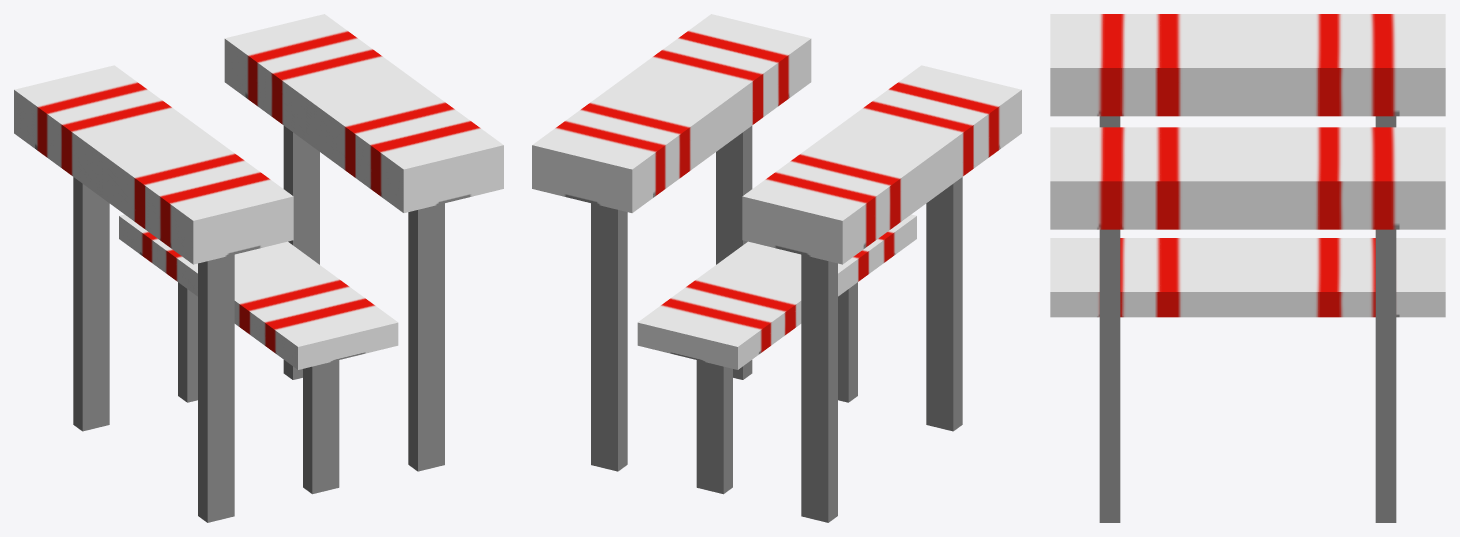
The model's file is barrier2.glb.
3 views of the same model, side by side, from view 1: azimuth 30°, elevation 25°; view 2: azimuth 150°, elevation 25°; view 3: azimuth 270°, elevation 25° (orthographic). The views are drawn at different scales.
Parts seen in each view (by area): view 1: Cube.002; view 2: Cube.002; view 3: Cube.002.
Part boxes in pixels (box(x1,y1,x2,y2)): Cube.002: box(14, 14, 503, 522); Cube.002: box(532, 14, 1021, 522); Cube.002: box(1050, 14, 1445, 522).
Size of the model in its own units: 0.9845 by 0.9919 by 0.984.
Materials: 1 (1 with a texture image).
